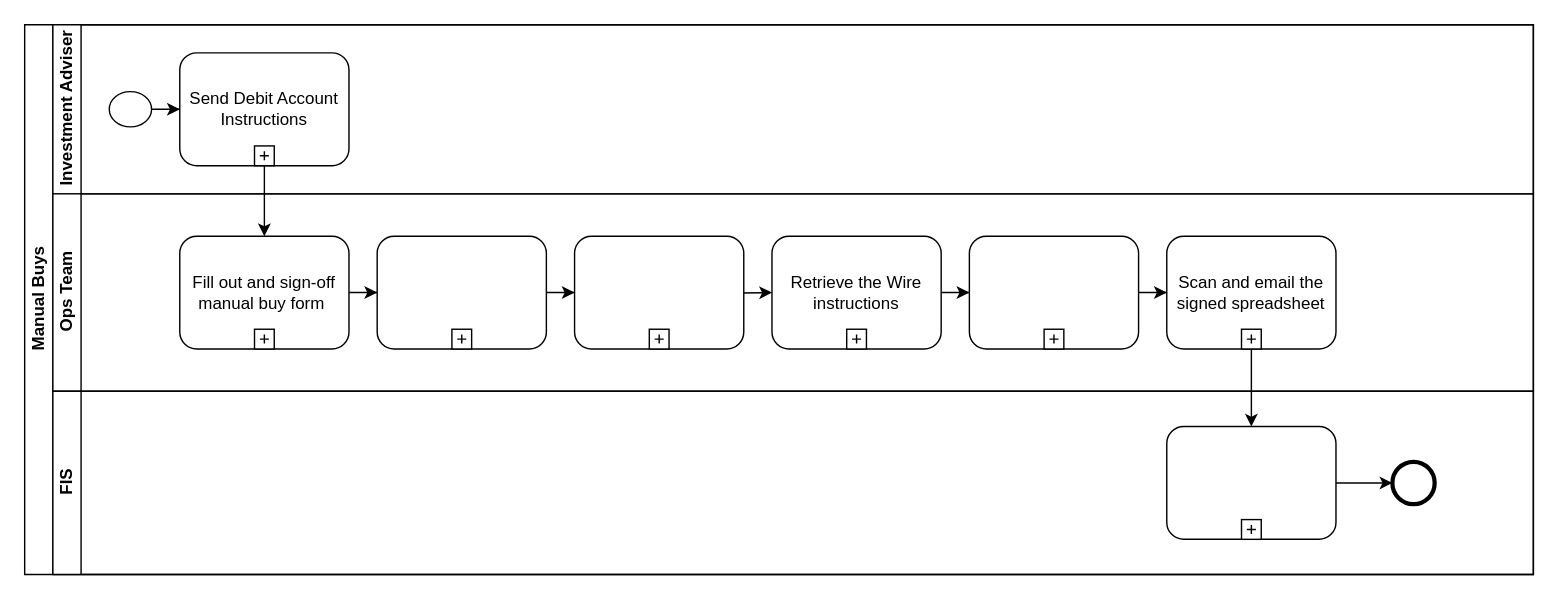
This 1558x599 diagram has some shape labels left out. The centre of each missing label's shape, as x and y in pixels:
Create and submit ticket for wire amount: (1053,292)
Fax form to Private Bank: (658,292)
Perform QA and sign-off of manual buy form: (461,292)
Receive emailed spreadsheet: (1250,482)
